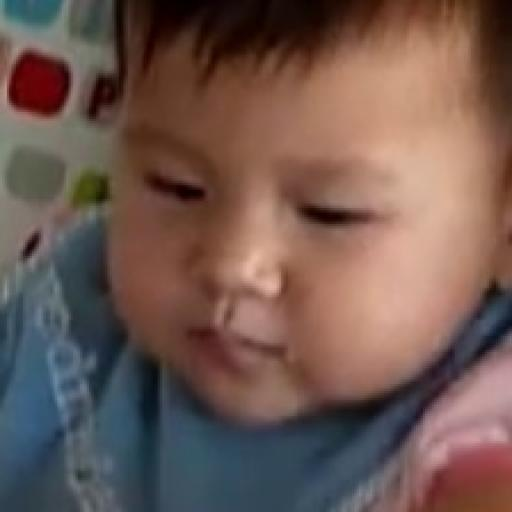Autism: (105, 0, 512, 430)
